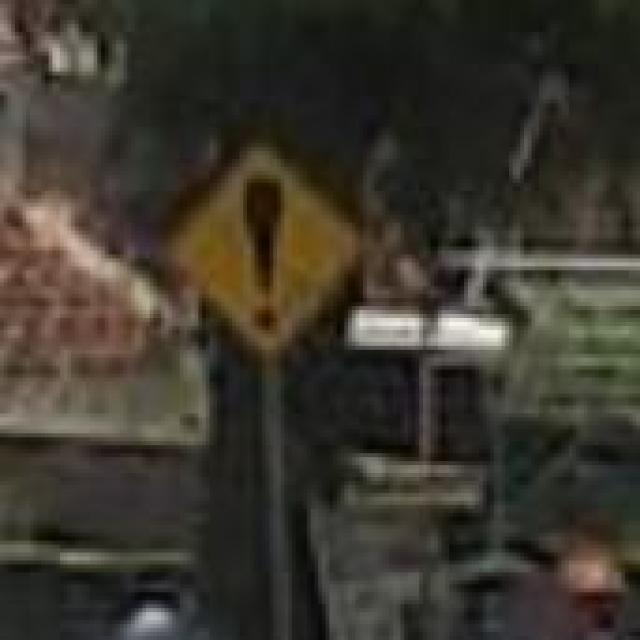traffic sign: (172, 147, 363, 350)
